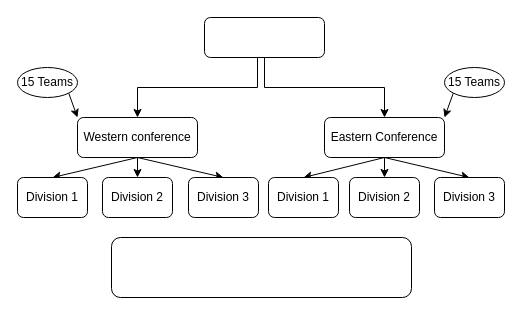
This 522x315 diagram has some shape labels left out. Each missing label, with the centre of its shape:
NBA Regular Seson: the point at 264,37
No. of Games played by each team per season: 82: the point at 261,267
